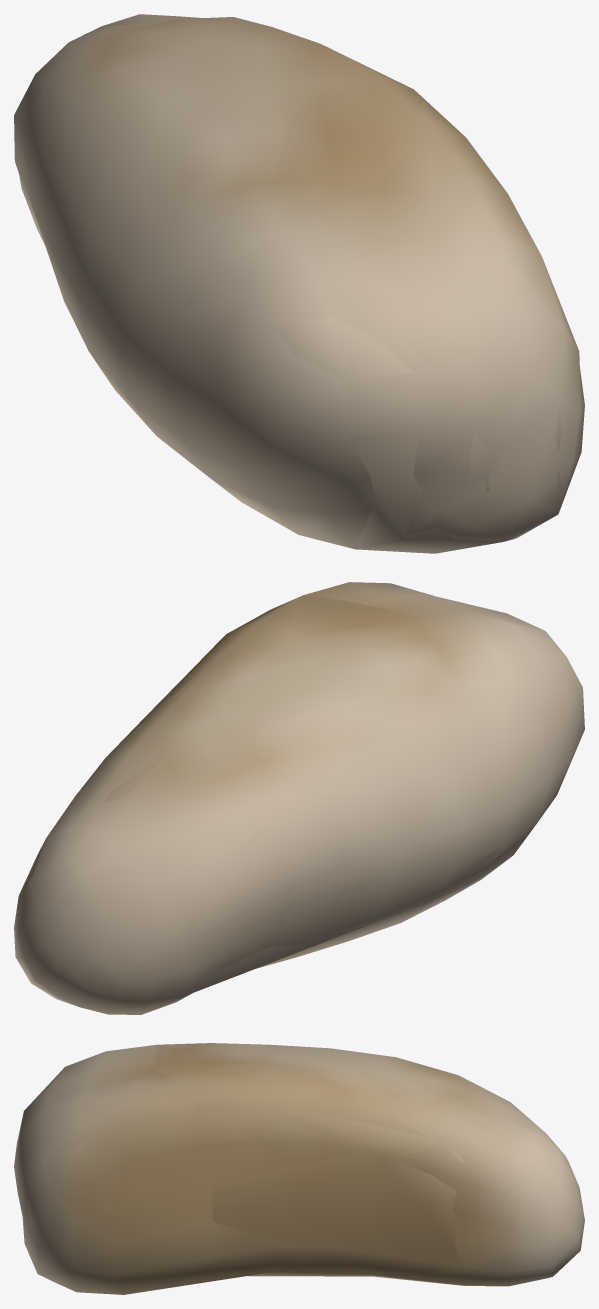
File: R carpale quartum.fbx
The picture shows the model from 3 angles, top to bottom: view 1: azimuth 30°, elevation 25°; view 2: azimuth 150°, elevation 25°; view 3: azimuth 270°, elevation 25°; orthographic projection. The views are drawn at different scales.
Parts seen in each view (by area): view 1: R carpale quartum, R carpale quartum low; view 2: R carpale quartum, R carpale quartum low; view 3: R carpale quartum, R carpale quartum low.
Part boxes in pixels (x1=…): R carpale quartum: x1=14, y1=14, x2=584, y2=549; R carpale quartum low: x1=14, y1=17, x2=578, y2=553; R carpale quartum: x1=14, y1=582, x2=584, y2=1014; R carpale quartum low: x1=36, y1=595, x2=512, y2=994; R carpale quartum: x1=14, y1=1043, x2=584, y2=1294; R carpale quartum low: x1=26, y1=1044, x2=529, y2=1291.
Size of the model in its own units: 2.62 by 2.3 by 5.59.
